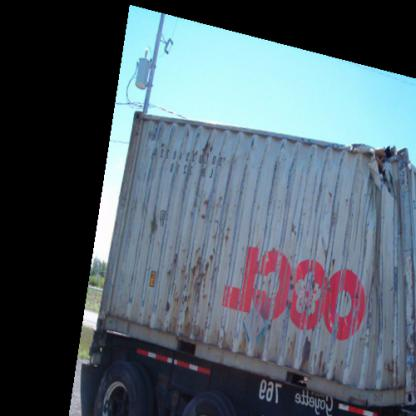Damage: (281, 229, 399, 361), (150, 149, 228, 341)
